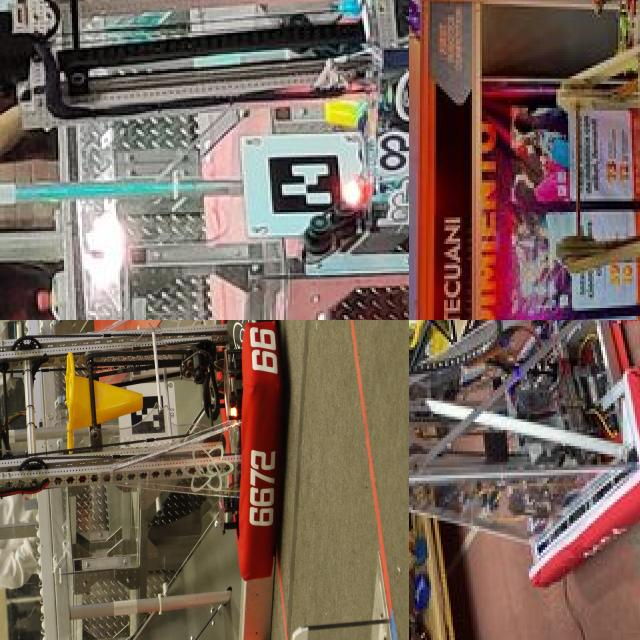FRC-Robots: (29, 0, 409, 320), (0, 320, 288, 602), (409, 320, 640, 573), (521, 0, 640, 292)
